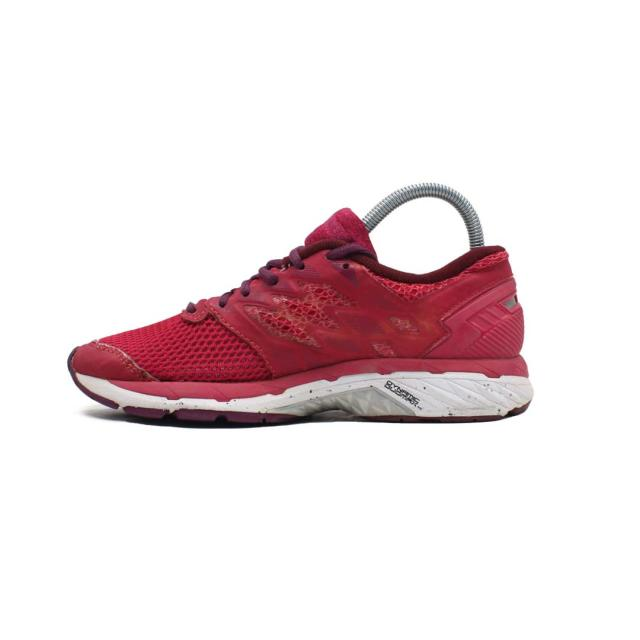heel: (490, 225, 528, 358)
midsole: (70, 359, 532, 426)
uppersole: (67, 247, 481, 376)
